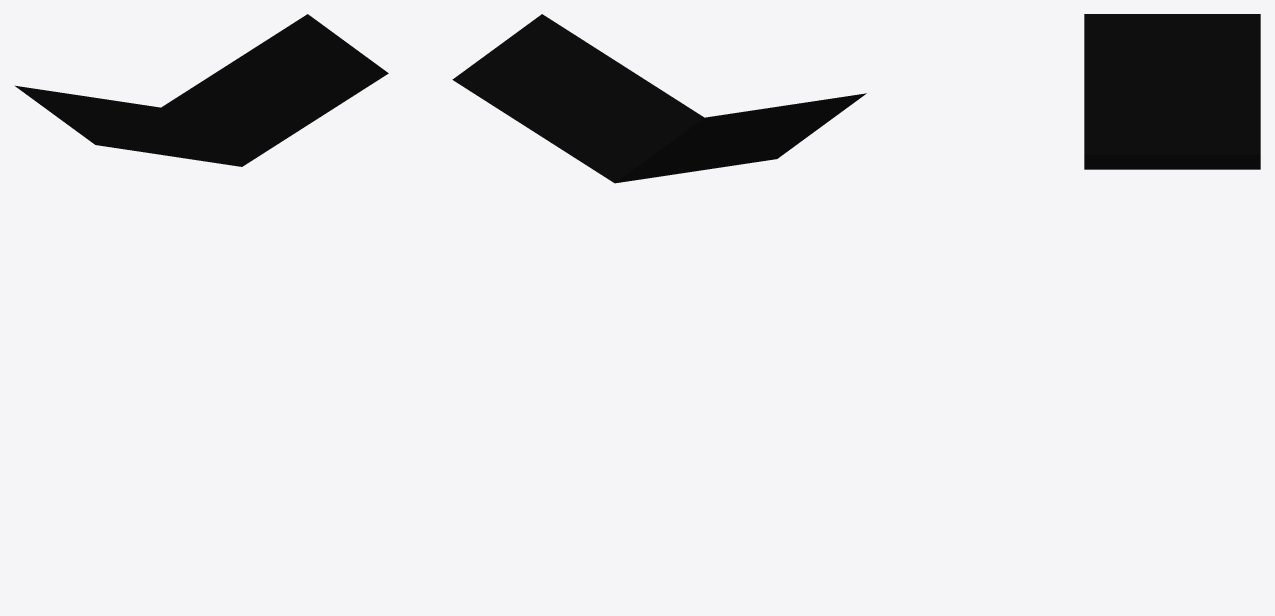
File: robotLegs.fbx
The picture shows the model from 3 angles, left to right: view 1: azimuth 30°, elevation 25°; view 2: azimuth 150°, elevation 25°; view 3: azimuth 270°, elevation 25°; orthographic projection. The views are drawn at different scales.
Visible parts, largest first — view 1: Legs; view 2: Legs; view 3: Legs.
Boxes of the visible parts, x1,y1,x2,y2 form: Legs: [15, 14, 388, 166]; Legs: [452, 14, 866, 183]; Legs: [1084, 14, 1260, 169].
Size of the model in its own units: 54.34 by 73.38 by 48.15.
